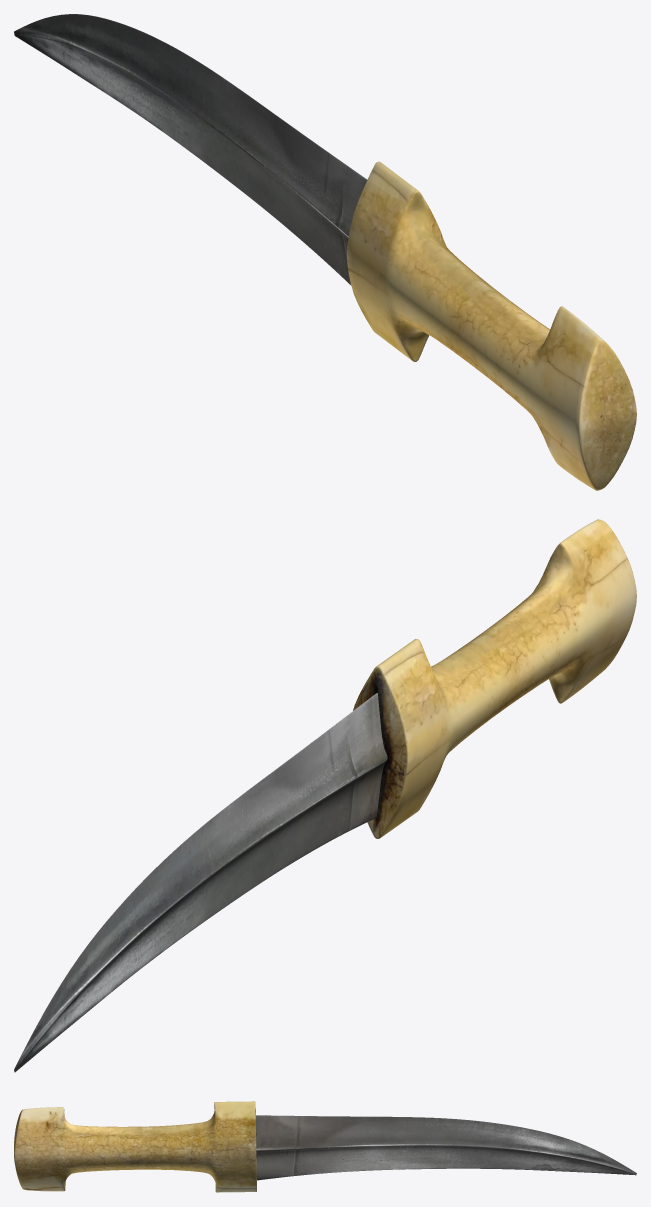
Rendered from b_hancer.glb.
3 renders of one model, top to bottom at view 1: azimuth 30°, elevation 25°; view 2: azimuth 150°, elevation 25°; view 3: azimuth 270°, elevation 25°, orthographic. The views are drawn at different scales.
Parts seen in each view (by area): view 1: govde; view 2: govde; view 3: govde.
Boxes of the visible parts, <box> form: govde: <box>14,14,636,490</box>; govde: <box>14,519,636,1072</box>; govde: <box>14,1101,636,1192</box>.
Size of the model in its own units: 0.0186 by 0.0498 by 0.31.
Materials: 1 (1 with a texture image).
